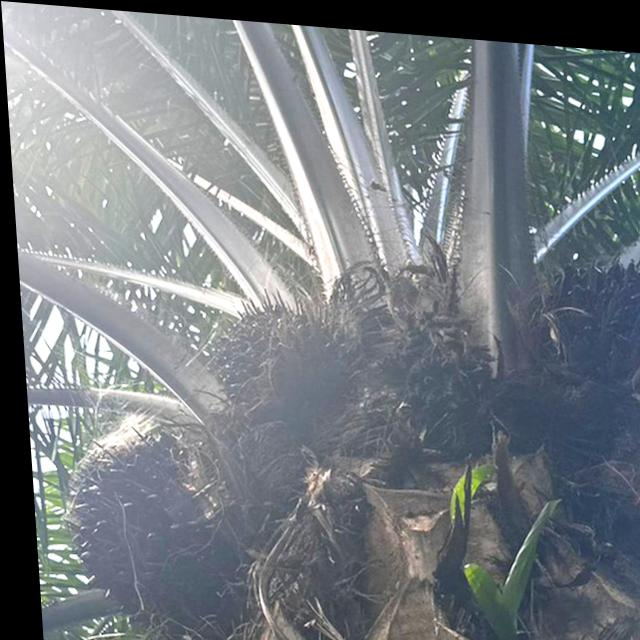unripe: (47, 419, 254, 635), (199, 277, 344, 416), (537, 236, 640, 367)
